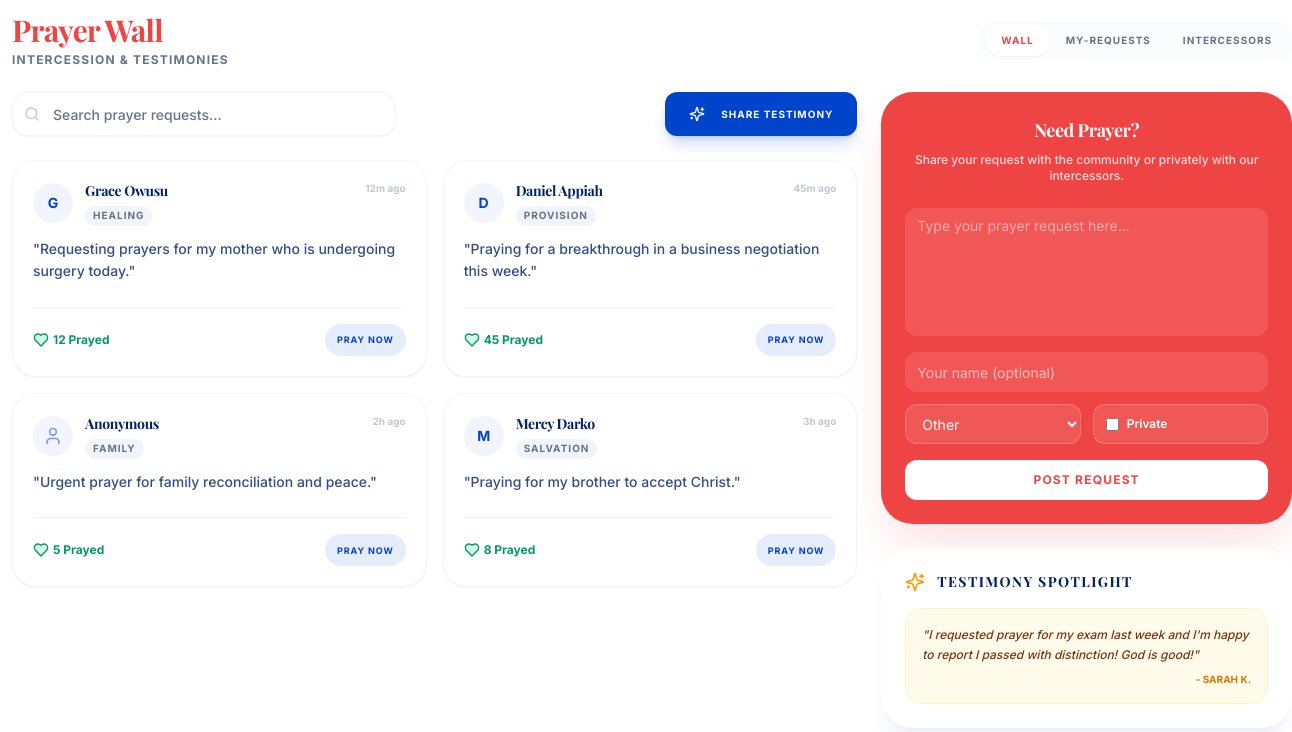
Event Modules Permission Guarding › allows authorized users to post prayer requests
Type "Please pray for my family this week." into the text box named "prayer request message". click: (1087, 272)
box: x1=905 y1=208 x2=1268 y2=336
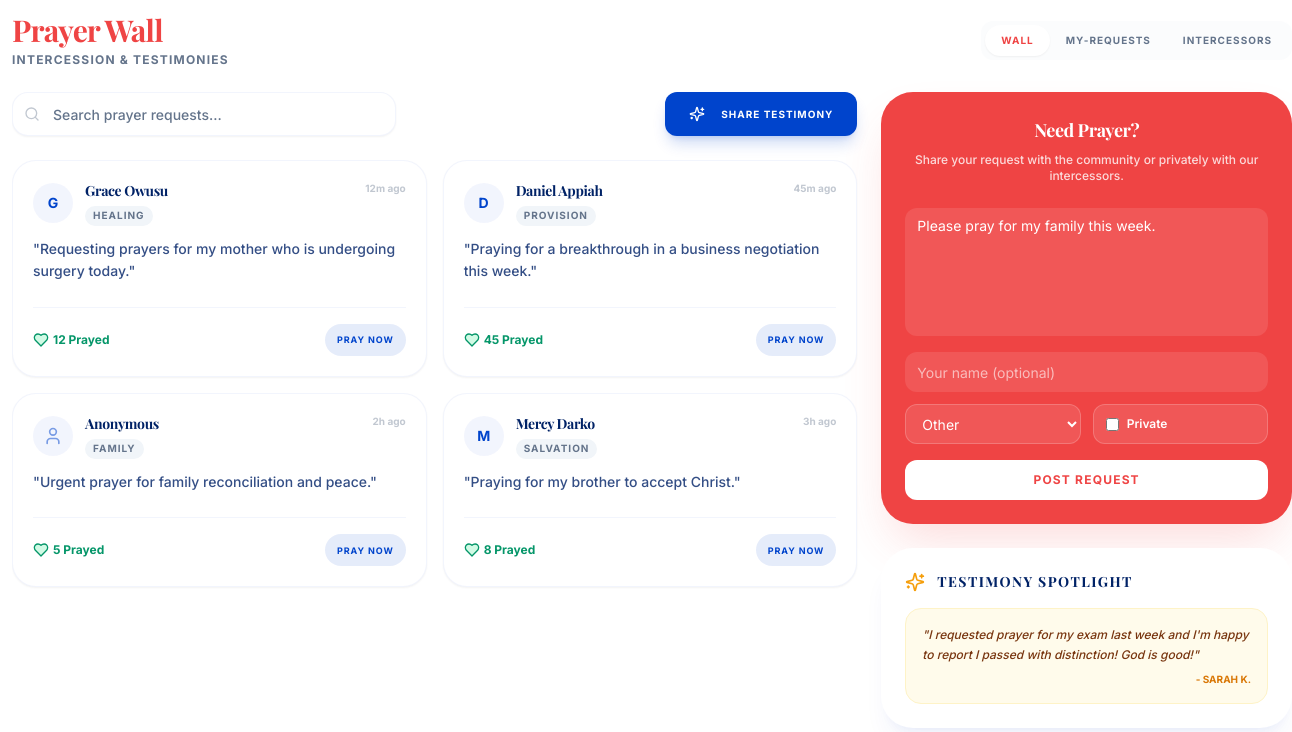
Type "Nana K." into the field named "requestor name". click: (1087, 372)
box: x1=905 y1=352 x2=1268 y2=392
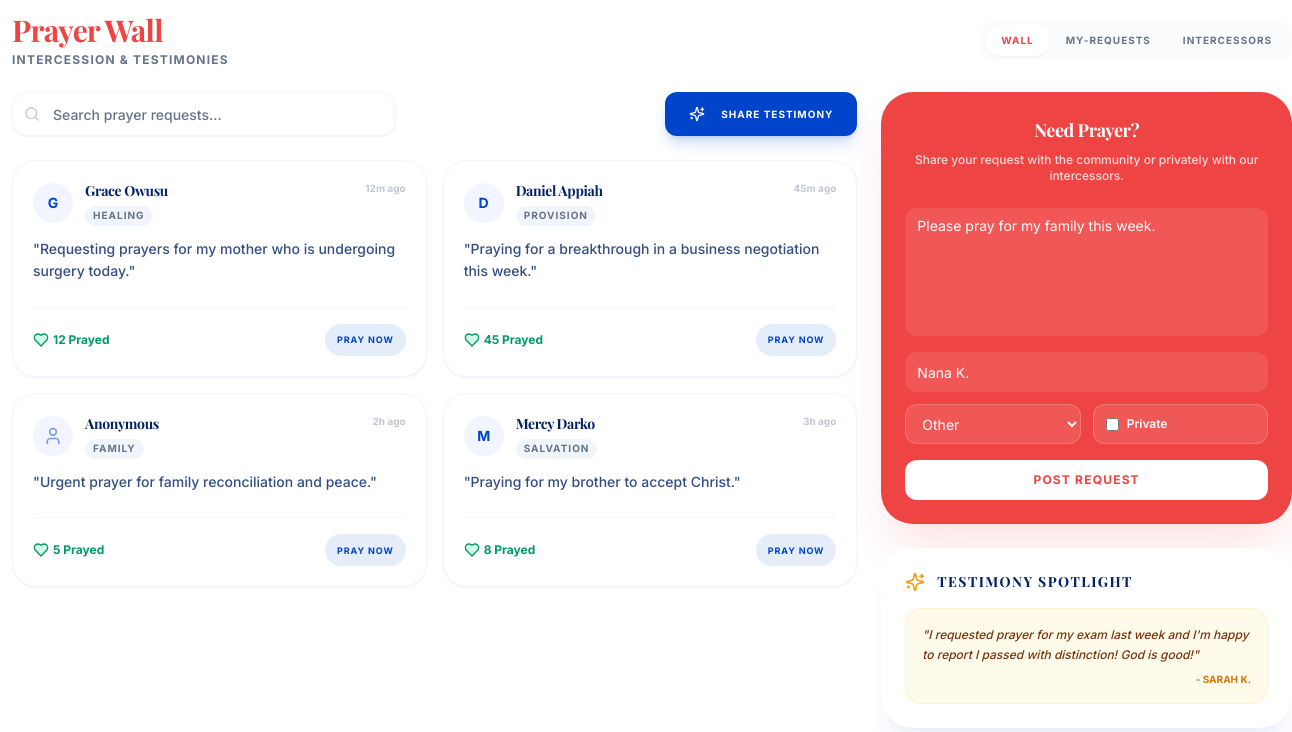
Select "Family" in the dropdown named "request category". click: (993, 424)
box: x1=905 y1=404 x2=1081 y2=444
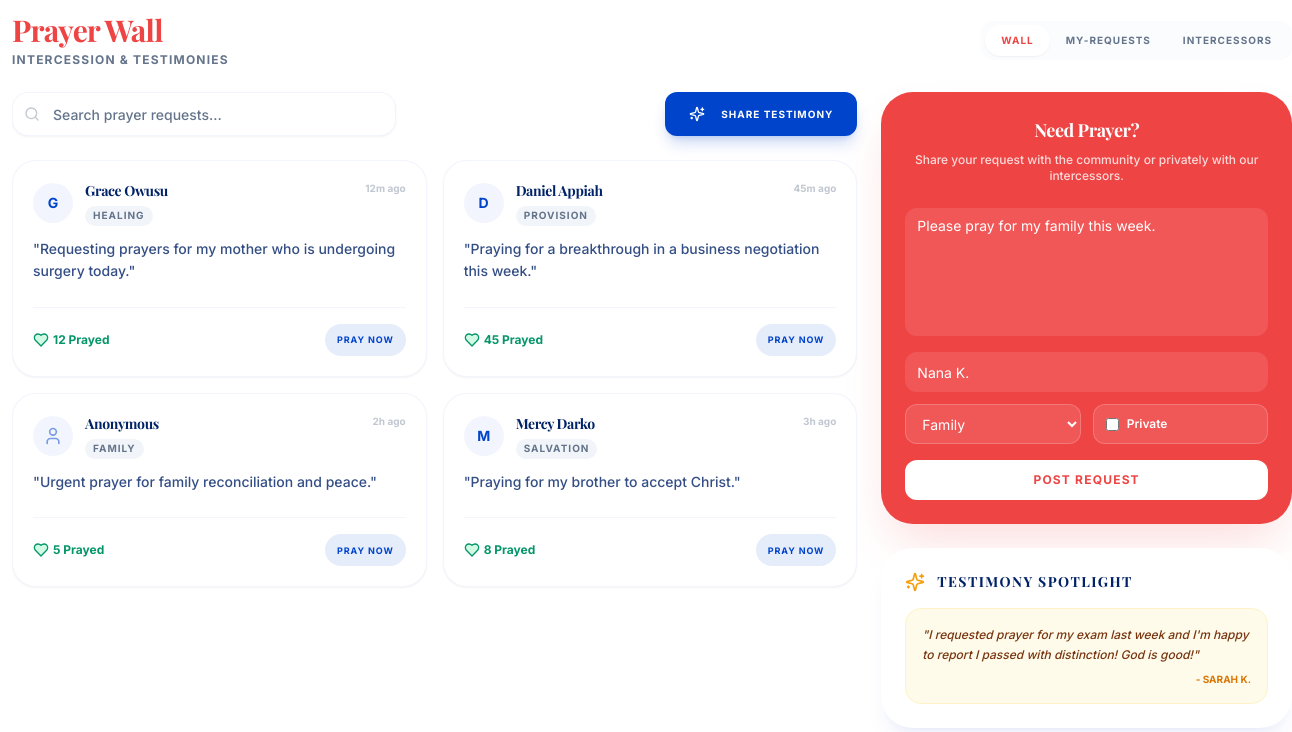
Click the button "Post Request". click: click(1087, 480)
box: x1=905 y1=460 x2=1268 y2=500
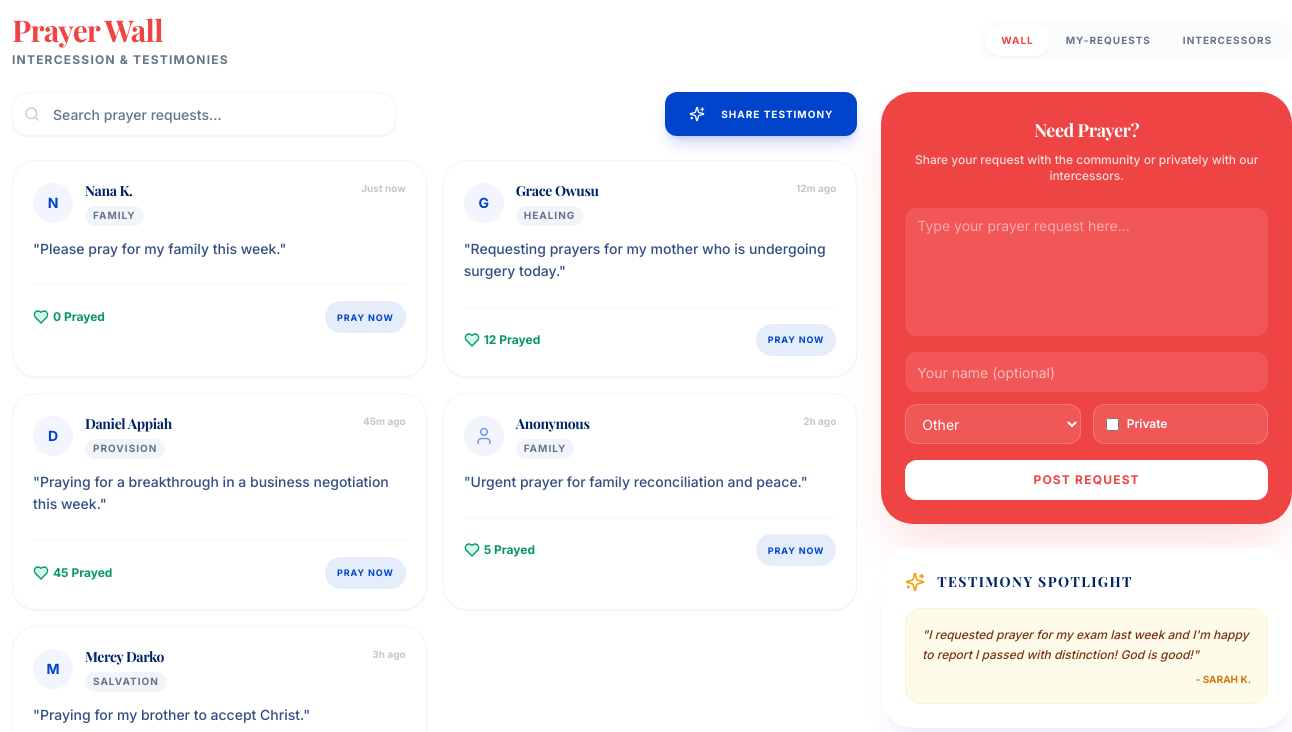
Expected: the text "\"Please pray for my family this week.\"" is shown, x1=33 y1=240 x2=286 y2=256
